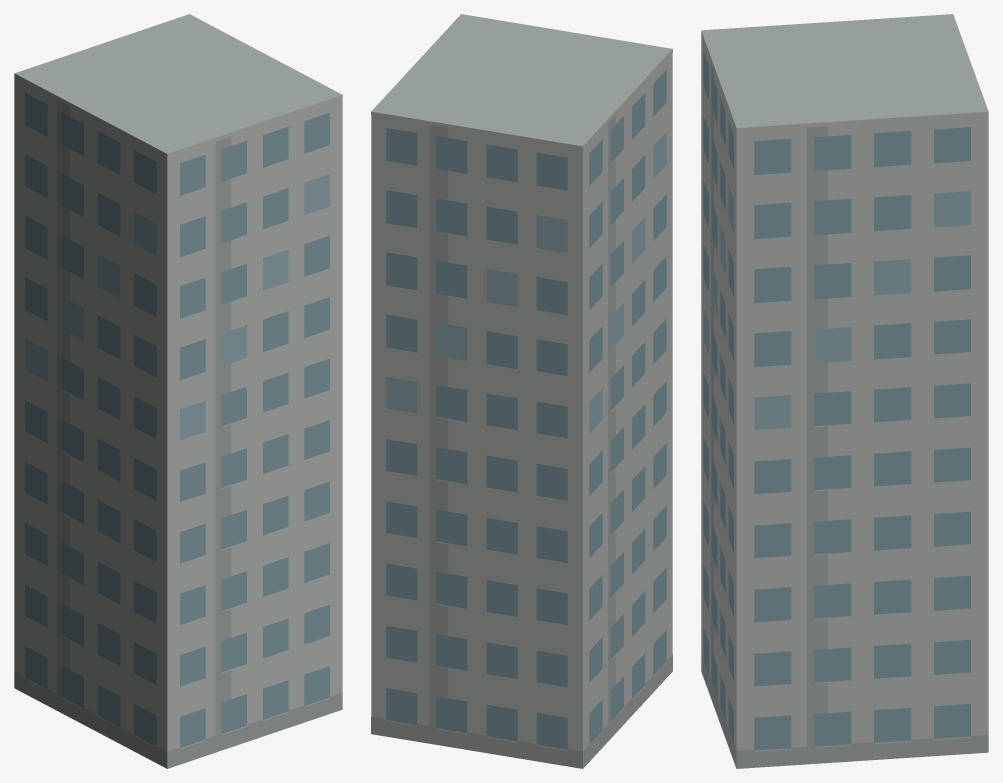
The model's file is residential-91c78403-4c6a-470b-9d87-432edfb51b6c.glb.
The picture shows the model from 3 angles, left to right: view 1: azimuth 30°, elevation 25°; view 2: azimuth 150°, elevation 25°; view 3: azimuth 270°, elevation 25°; orthographic projection. The views are drawn at different scales.
Parts seen in each view (by area): view 1: residential-91c78403-4c6a-470b-9d87-432edfb51b6c.tmp; view 2: residential-91c78403-4c6a-470b-9d87-432edfb51b6c.tmp; view 3: residential-91c78403-4c6a-470b-9d87-432edfb51b6c.tmp.
Boxes of the visible parts, x1,y1,x2,y2 form: residential-91c78403-4c6a-470b-9d87-432edfb51b6c.tmp: (14,14,342,768); residential-91c78403-4c6a-470b-9d87-432edfb51b6c.tmp: (371,14,672,768); residential-91c78403-4c6a-470b-9d87-432edfb51b6c.tmp: (701,14,988,768).
Size of the model in its own units: 14.89 by 39 by 15.86.
